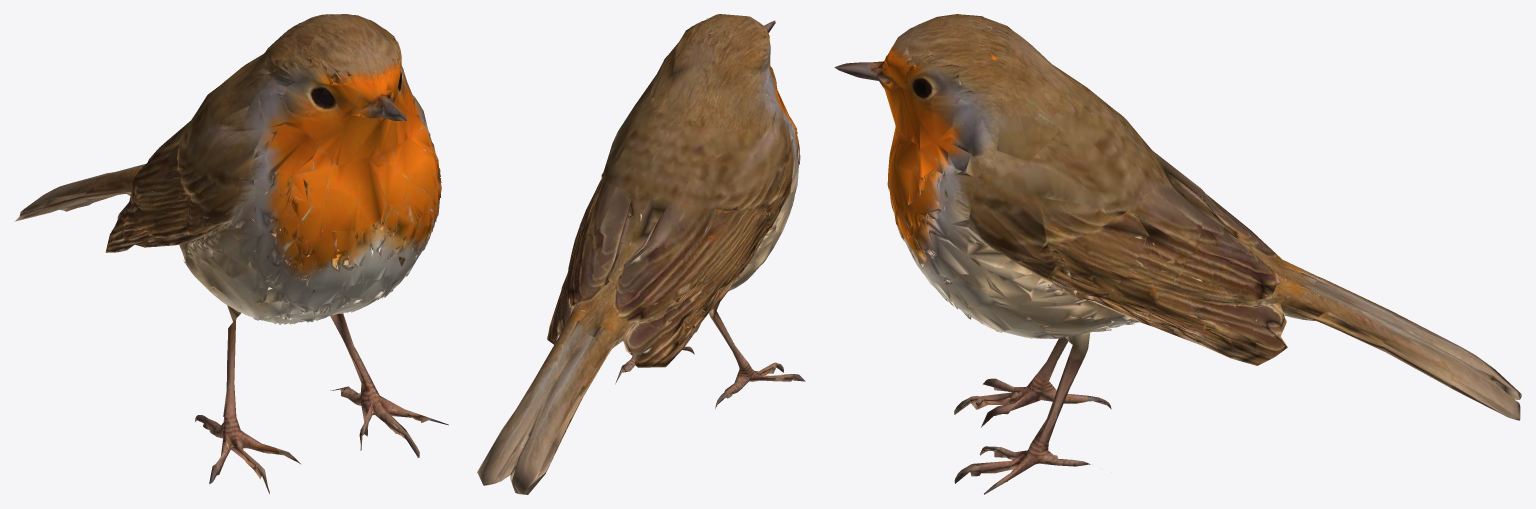
File: bird.glb
3 views of the same model, side by side, from view 1: azimuth 30°, elevation 25°; view 2: azimuth 150°, elevation 25°; view 3: azimuth 270°, elevation 25° (orthographic). The views are drawn at different scales.
Parts seen in each view (by area): view 1: bird; view 2: bird; view 3: bird.
Part boxes in pixels (x1,y1,x2,y2): bird: (14, 14, 448, 494); bird: (477, 14, 805, 494); bird: (834, 14, 1521, 494).
Size of the model in its own units: 0.0531 by 0.0957 by 0.1392.
Materials: 1 (1 with a texture image).
